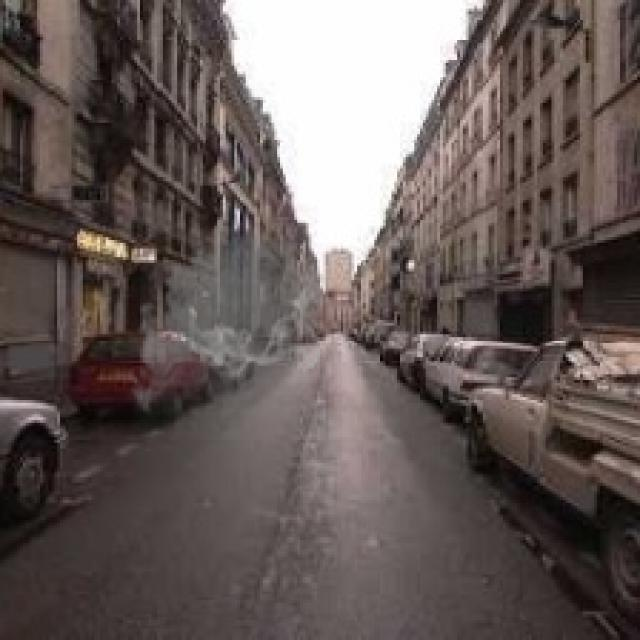Smoke: (125, 215, 328, 440)
